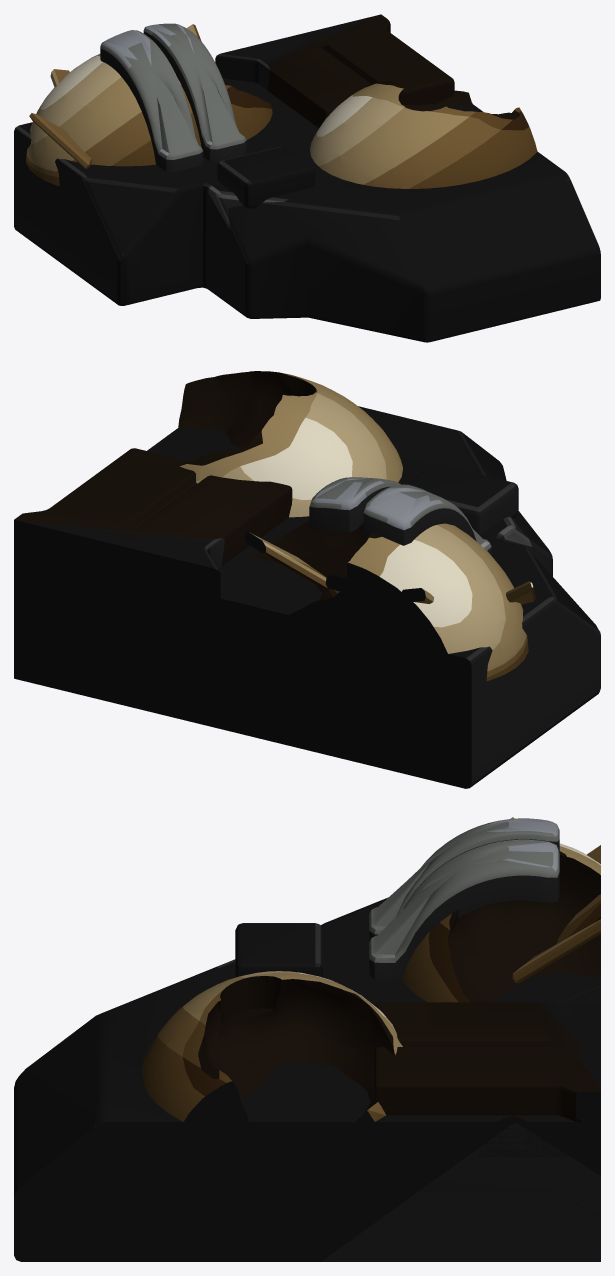
Rendered from gold_domes_bl_wreck.glb.
3 views of the same model, one above another, from view 1: azimuth 30°, elevation 25°; view 2: azimuth 150°, elevation 25°; view 3: azimuth 270°, elevation 25° (orthographic). The views are drawn at different scales.
Visible parts, largest first — view 1: gold_domes_bl_wreck; view 2: gold_domes_bl_wreck; view 3: gold_domes_bl_wreck.
Boxes of the visible parts, box(x1,y1,x2,y2) form: gold_domes_bl_wreck: box(14, 14, 600, 342); gold_domes_bl_wreck: box(14, 371, 600, 788); gold_domes_bl_wreck: box(14, 817, 600, 1261).
Size of the model in its own units: 23.03 by 11.04 by 22.8.
